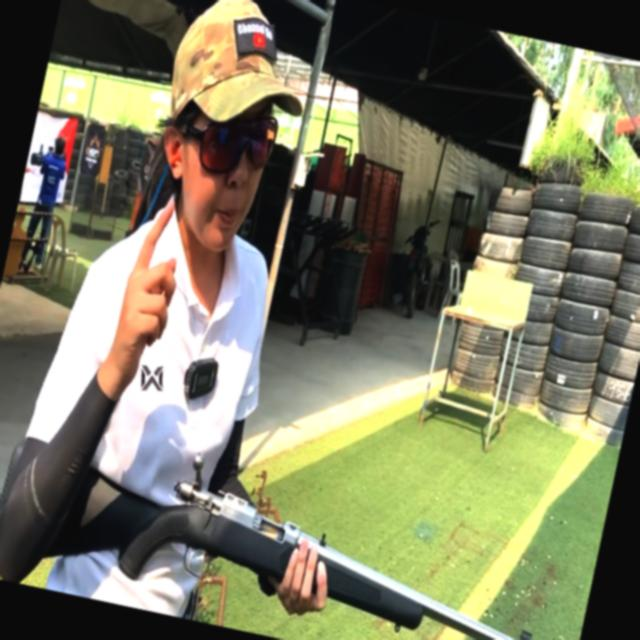rifle: (0, 394, 570, 640)
